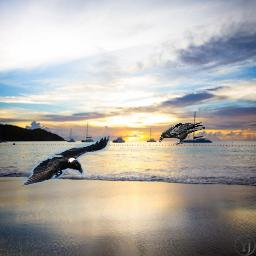Crow: (21, 134, 110, 186), (159, 122, 205, 145)
